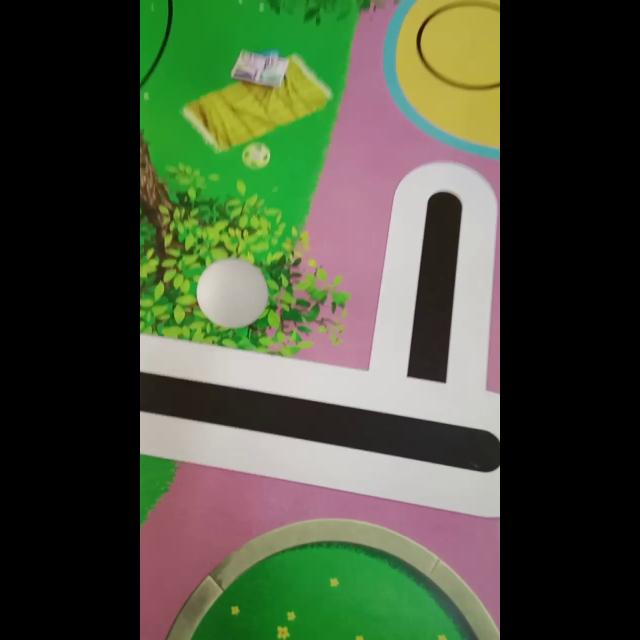white ball: (195, 257, 269, 329)
